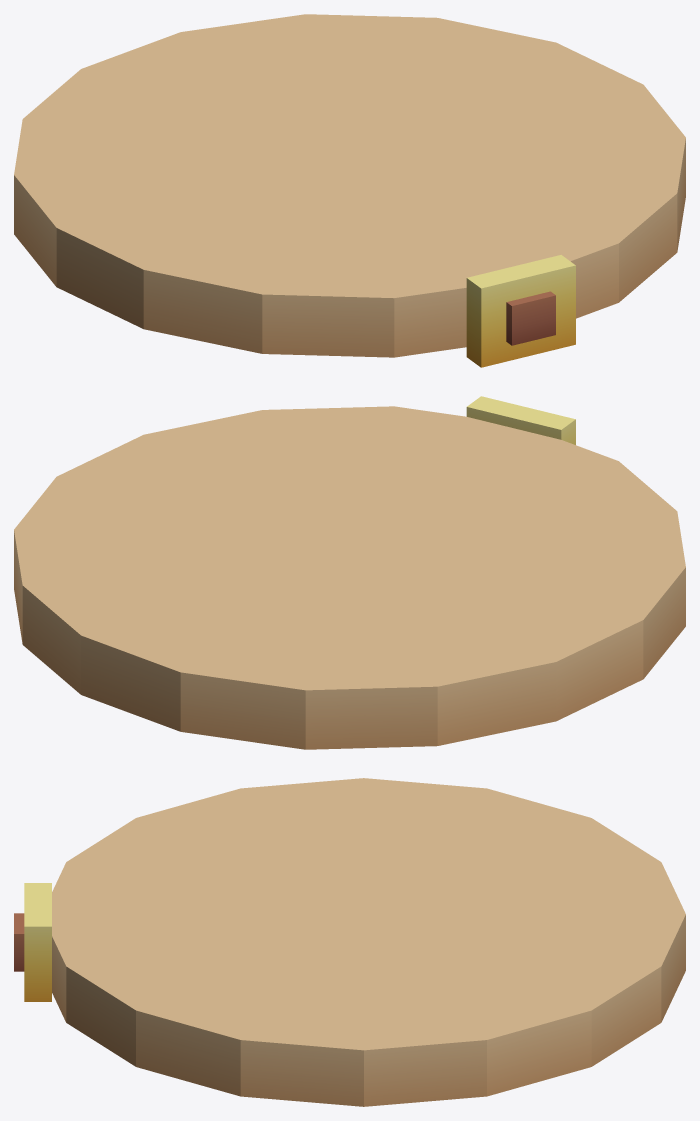
Rendered from leather_belt.glb.
3 views of the same model, one above another, from view 1: azimuth 30°, elevation 25°; view 2: azimuth 150°, elevation 25°; view 3: azimuth 270°, elevation 25° (orthographic). The views are drawn at different scales.
Visible parts, largest first — view 1: leather_belt; view 2: leather_belt; view 3: leather_belt.
Boxes of the visible parts, left/top/right/bottom form: leather_belt: left=14, top=14, right=685, bottom=367; leather_belt: left=14, top=396, right=685, bottom=749; leather_belt: left=14, top=778, right=685, bottom=1106.
Bounding box in the file's own units: 0.93 × 0.12 × 0.97.
Materials: 1 (1 with a texture image).
